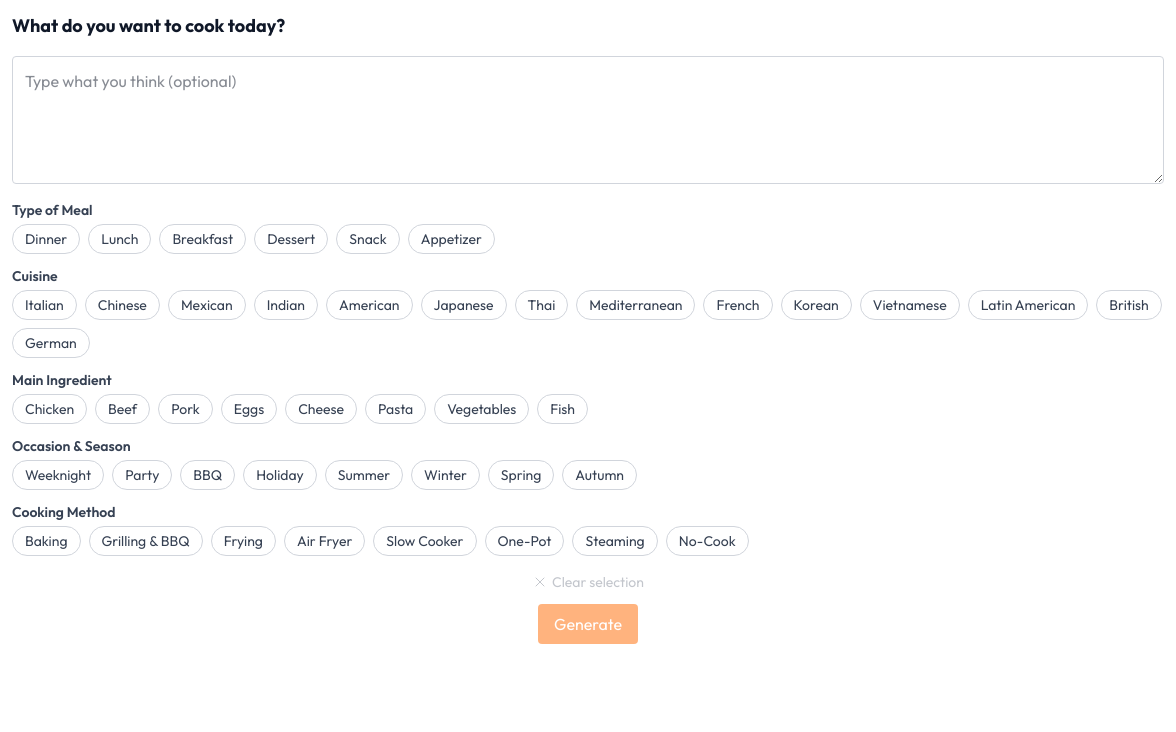
Test: GeneratePage › shows the "No recipes returned" message when the server returns an empty list
This screenshot has width=1176, height=732.
Type "anything" into the text box with placeholder "Type what you think (optional)" at (588, 120), box [12,56,1164,184]
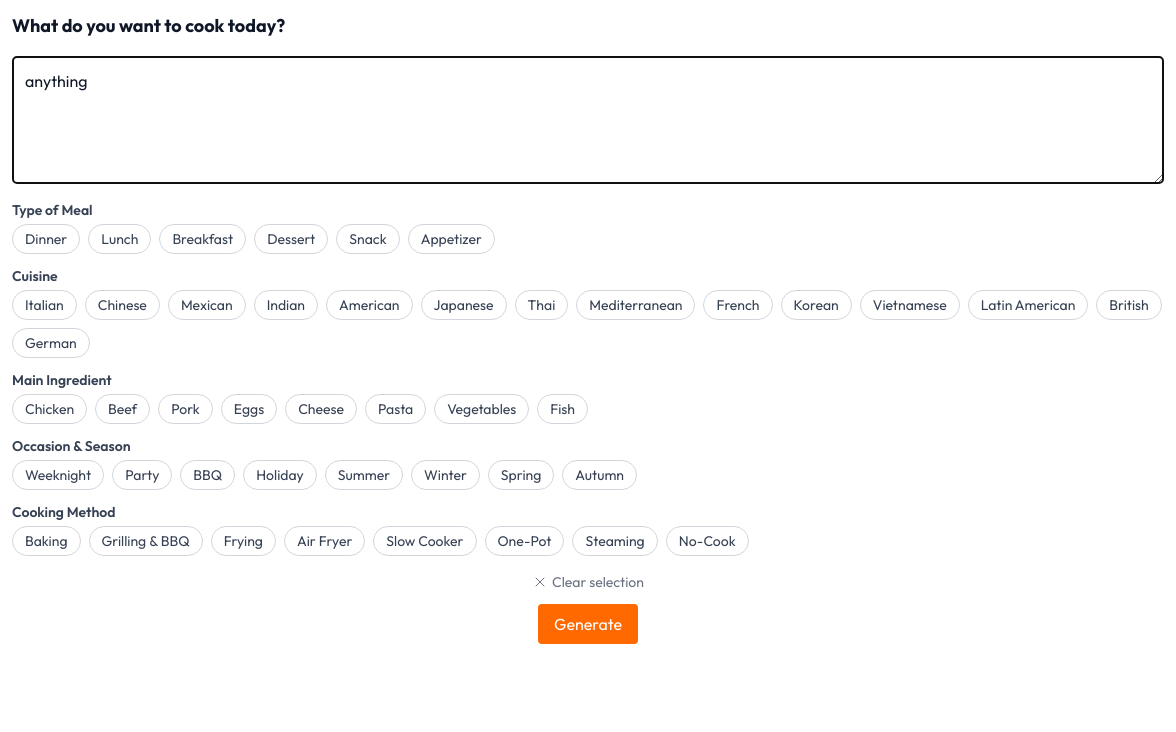
Click the button "Generate" at (588, 624), box [538,604,638,644]
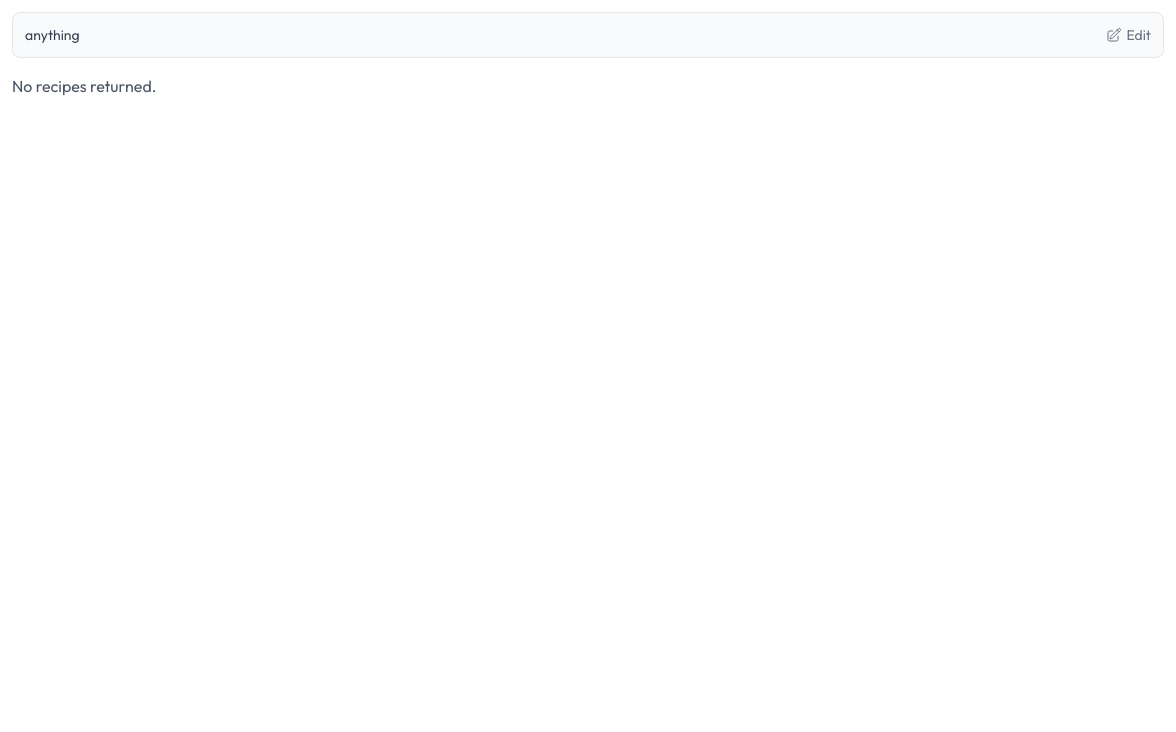
Check: the text "No recipes returned." is shown, box [12,76,156,96]
